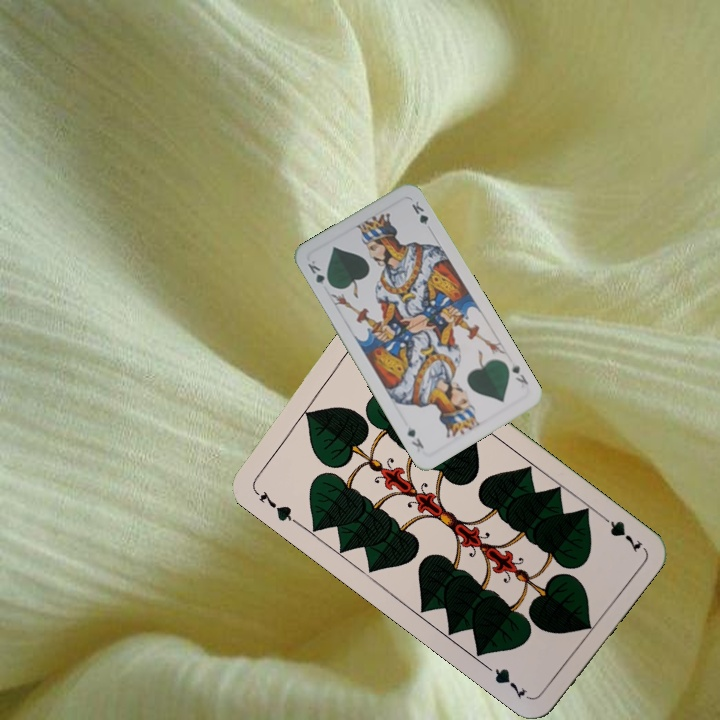G7: (595, 509, 645, 555), (250, 485, 300, 527)
GK: (303, 256, 334, 291), (507, 359, 531, 387)
